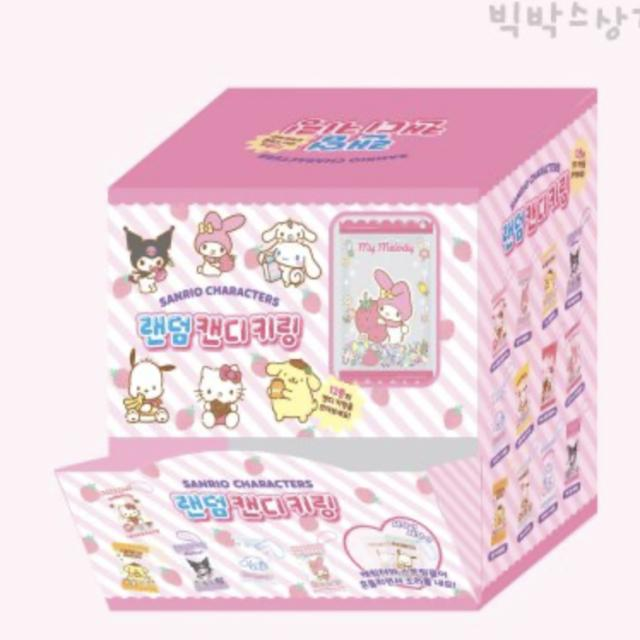biodegradable: (38, 43, 622, 622)
